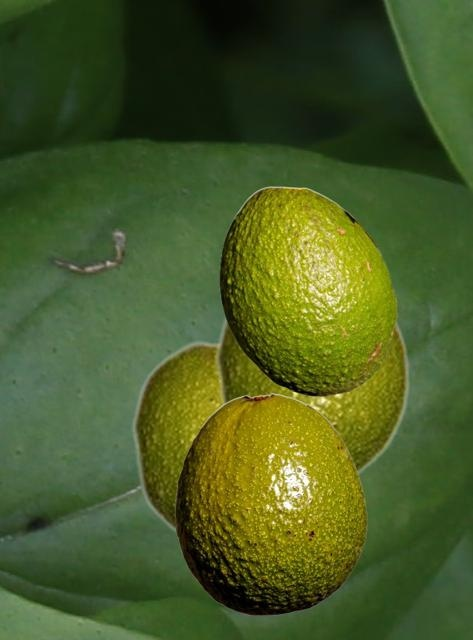avocado: (175, 393, 366, 614), (219, 186, 396, 395), (214, 313, 410, 478), (131, 336, 219, 537)
